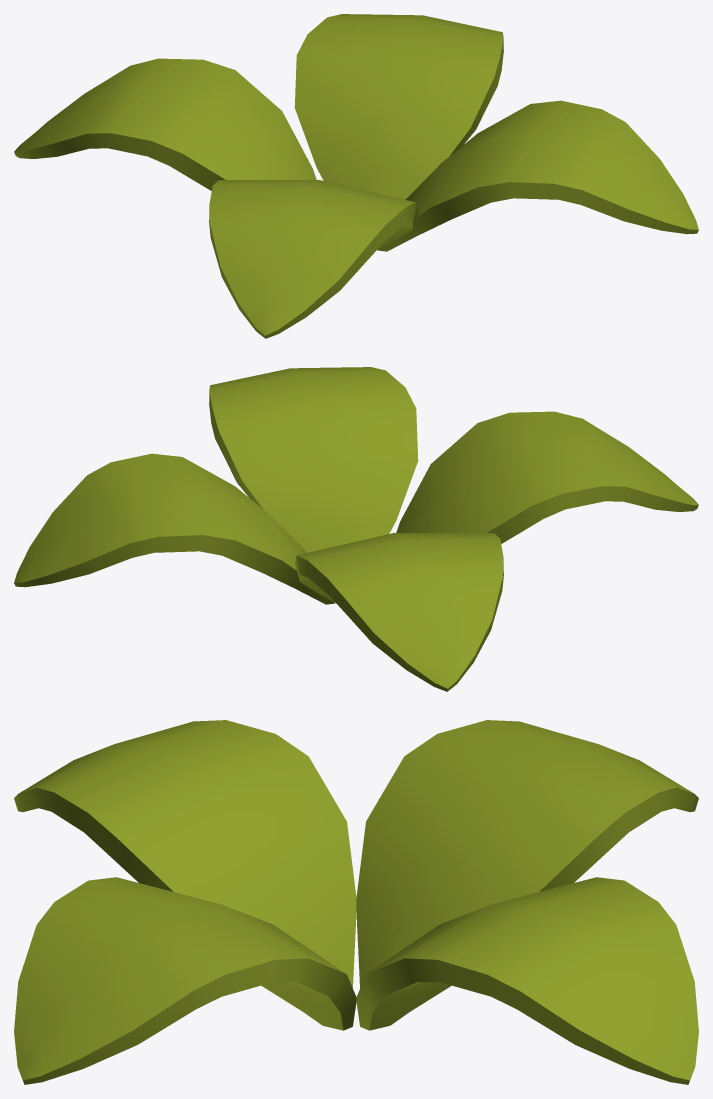
The model's file is Small_Plant.glb.
3 renders of one model, top to bottom at view 1: azimuth 30°, elevation 25°; view 2: azimuth 150°, elevation 25°; view 3: azimuth 270°, elevation 25°, orthographic. The views are drawn at different scales.
Visible parts, largest first — view 1: Plant_Small; view 2: Plant_Small; view 3: Plant_Small.
Part boxes in pixels (x1,y1,x2,y2): Plant_Small: (14, 14, 698, 338); Plant_Small: (14, 367, 698, 691); Plant_Small: (14, 720, 698, 1084).
Bounding box in the file's own units: 1.03 × 0.2867 × 1.03.
